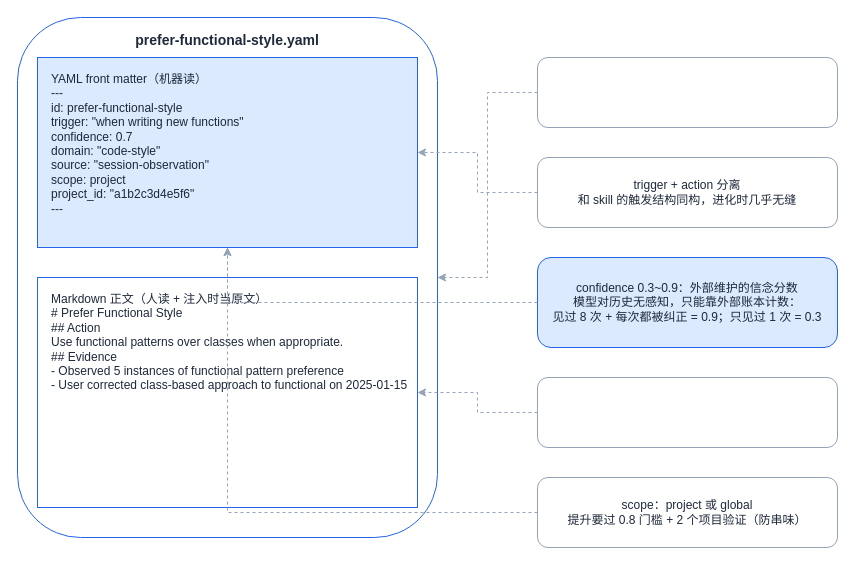
The diagram is 855 pixels wide and 565 high, and some of its shapes have lost their labels. Each missing label, with the box of its shape:
Evidence：强制证据链 哪次会话、观察到什么，可溯源可否决: (536, 376, 838, 448)
原子性：一条本能只管一件事 一个 trigger 配一个 action，方便后面聚类组合: (536, 56, 838, 128)
